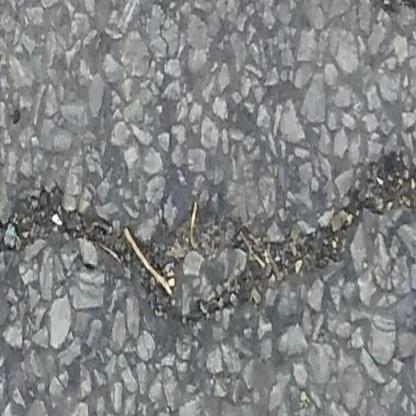Cracks: (0, 151, 416, 325), (337, 0, 416, 38)
